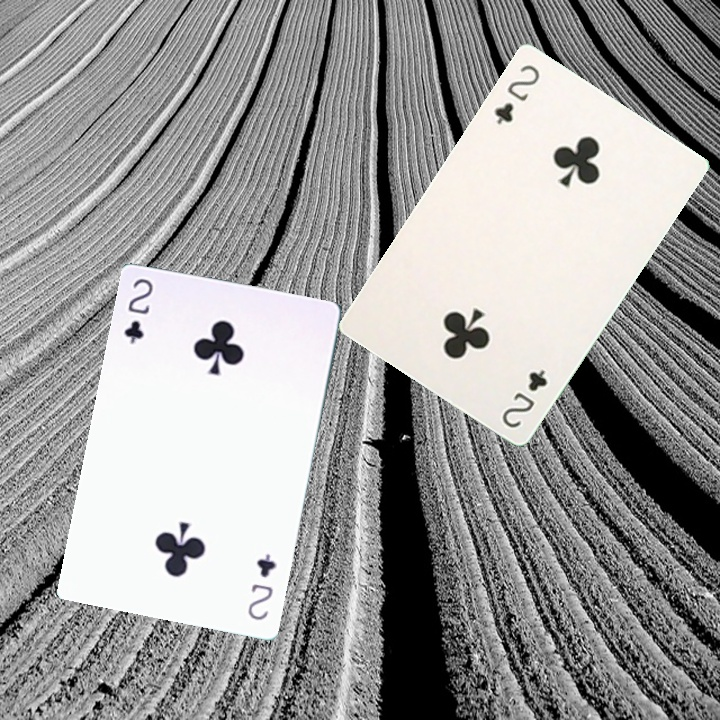2c: (490, 60, 543, 127), (498, 365, 550, 431), (243, 550, 279, 623), (120, 274, 156, 346)
